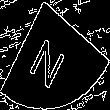N_NE: (32, 23, 78, 87)
